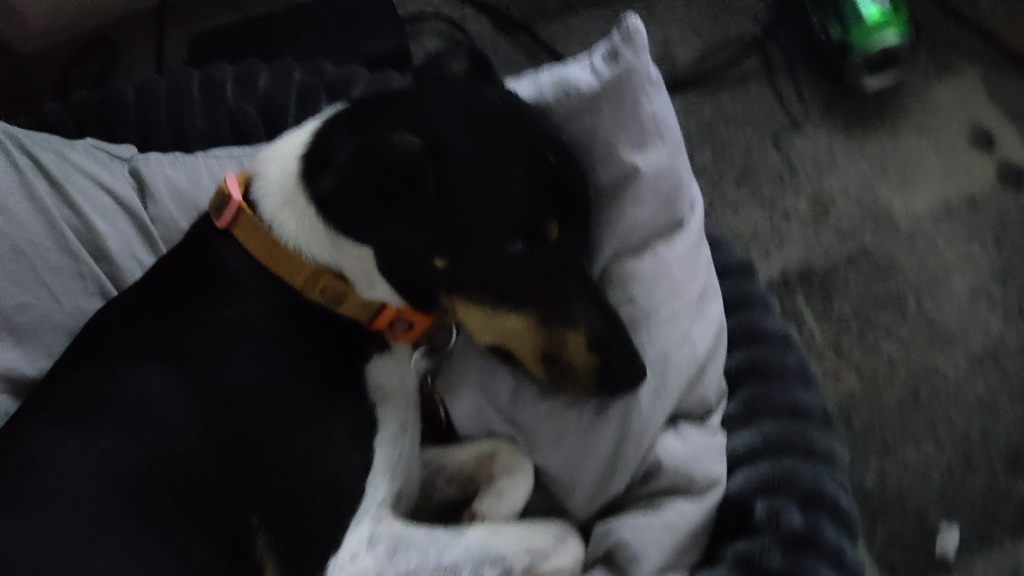Dog: (0, 30, 664, 576)
